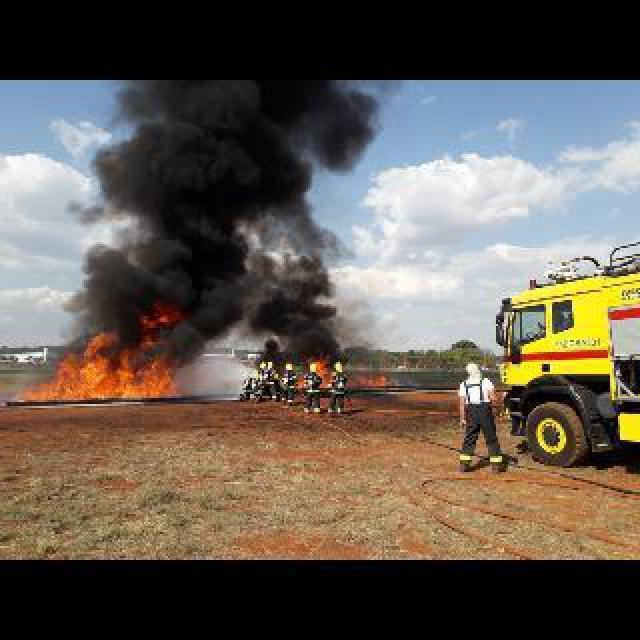Fire: (29, 346, 184, 396), (300, 359, 328, 374)
Smoke: (71, 80, 369, 331)
